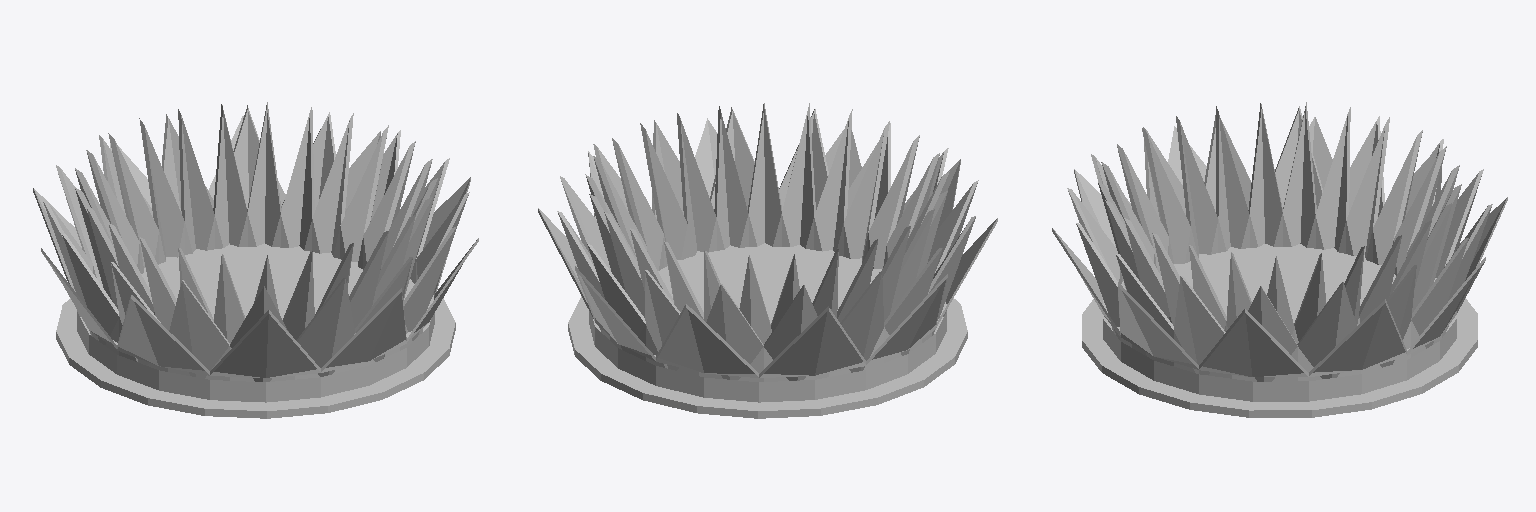
File: portal_abrir_000033.obj
The picture shows the model from 3 angles: view 1: azimuth 30°, elevation 25°; view 2: azimuth 150°, elevation 25°; view 3: azimuth 270°, elevation 25°; orthographic projection.
Visible parts, largest first — view 1: Cylinder.001, pCylinder1, Cylinder; view 2: Cylinder.001, pCylinder1, Cylinder; view 3: Cylinder.001, pCylinder1, Cylinder.
Part boxes in pixels (left/top/right/bottom): Cylinder.001: left=75, top=102, right=437, bottom=343; pCylinder1: left=33, top=116, right=478, bottom=418; Cylinder: left=42, top=105, right=469, bottom=381; Cylinder.001: left=585, top=103, right=949, bottom=344; pCylinder1: left=538, top=118, right=997, bottom=418; Cylinder: left=557, top=107, right=978, bottom=381; Cylinder.001: left=1098, top=102, right=1461, bottom=343; pCylinder1: left=1052, top=117, right=1507, bottom=417; Cylinder: left=1067, top=106, right=1492, bottom=381.
Bounding box in the file's own units: 6.08 × 2.31 × 6.08.